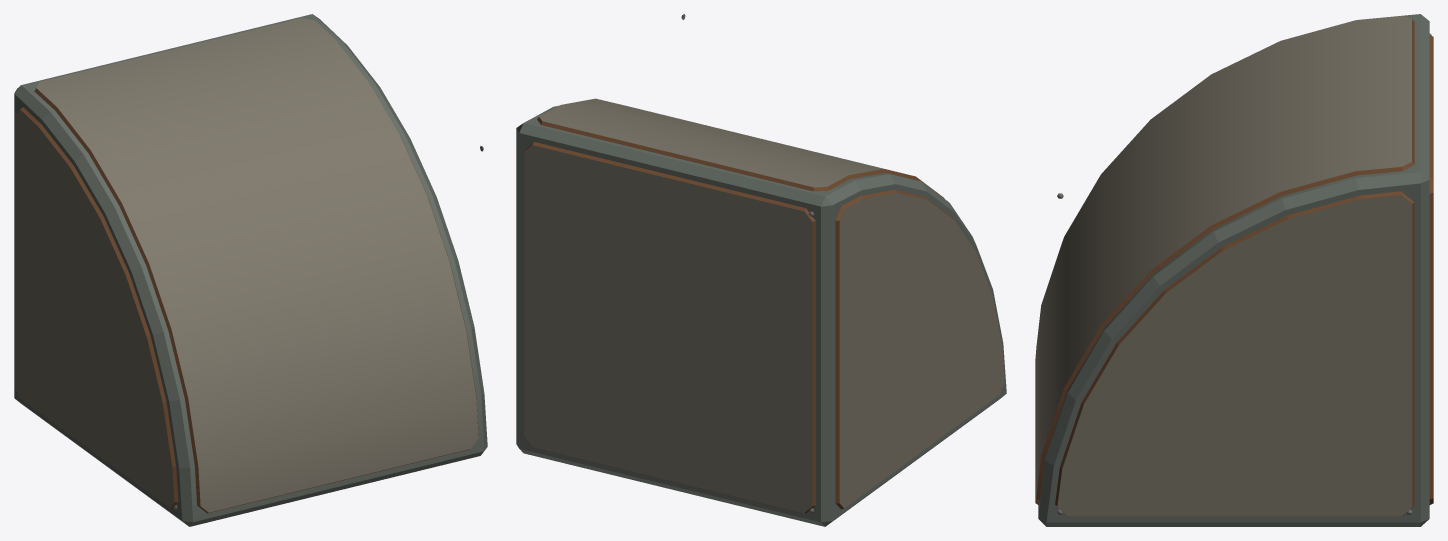
The model's file is R4B_RoundEdge.fbx.
The picture shows the model from 3 angles, left to right: view 1: azimuth 30°, elevation 25°; view 2: azimuth 150°, elevation 25°; view 3: azimuth 270°, elevation 25°; orthographic projection. The views are drawn at different scales.
Visible parts, largest first — view 1: R4B_RoundEdge; view 2: R4B_RoundEdge; view 3: R4B_RoundEdge.
Boxes of the visible parts, box(x1,y1,x2,y2) form: R4B_RoundEdge: box(14, 14, 487, 526); R4B_RoundEdge: box(516, 14, 1006, 526); R4B_RoundEdge: box(1035, 14, 1433, 526).
Size of the model in its own units: 0.52 by 0.5176 by 0.5176.
